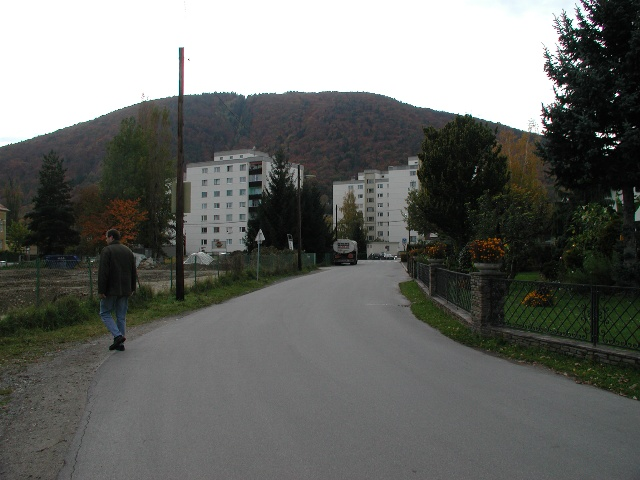person: (94, 227, 136, 350)
